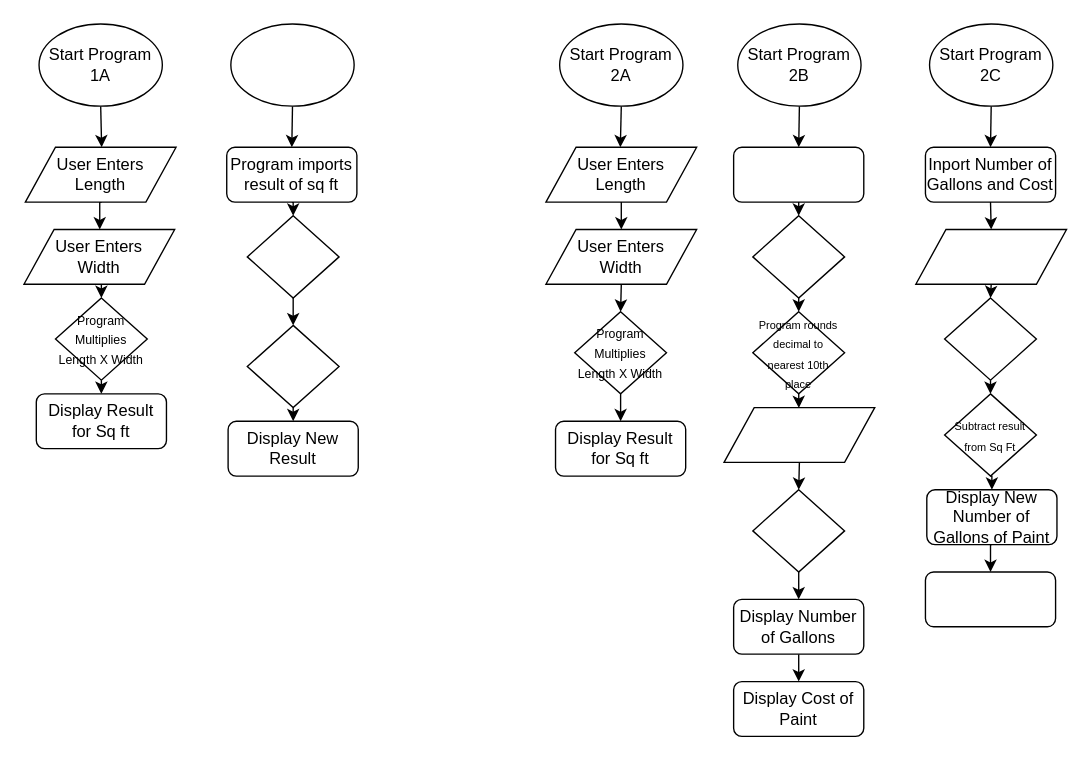
This 1091x760 diagram has some shape labels left out. Each missing label, with the centre of its shape:
Display New Cost of Paint: point (990, 599)
Divide New Result by 6: point (292, 366)
Multiply Doors by 14: point (989, 338)
multiply result by 12: point (292, 256)
Program Divides Sq.ft. by 350: point (798, 256)
Program Imports Result for sq ft: point (798, 174)
Program muliplies Price x Number of Gallons: point (798, 530)
Start Program 1B: point (291, 64)
User Enters Number of Doors: point (990, 256)
User Enters price per Gallon: point (799, 434)
